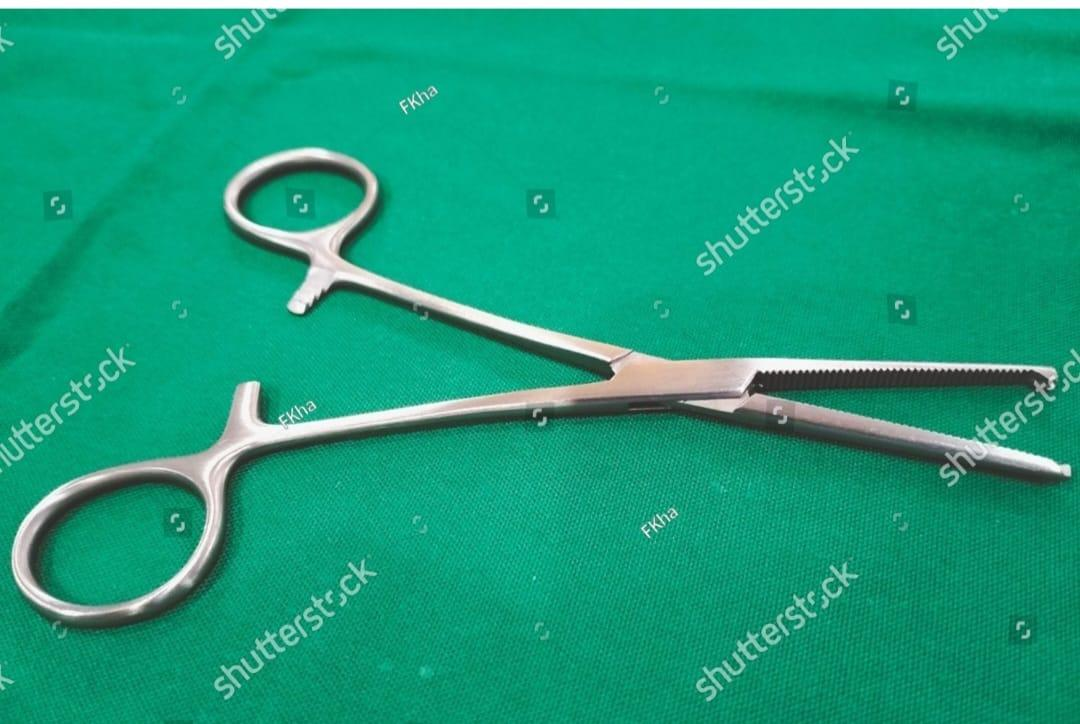Kocher Forceps: (1, 136, 1079, 632)
